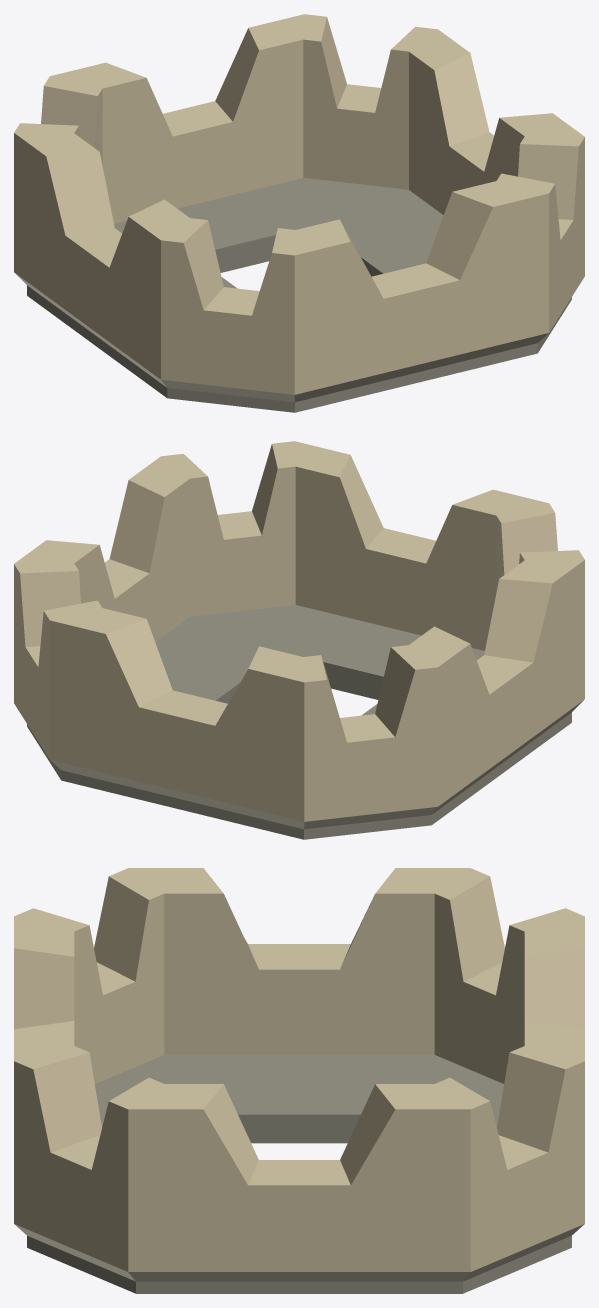
The model's file is crenellated_tower_crown.glb.
3 renders of one model, top to bottom at view 1: azimuth 30°, elevation 25°; view 2: azimuth 150°, elevation 25°; view 3: azimuth 270°, elevation 25°, orthographic. The views are drawn at different scales.
Visible parts, largest first — view 1: Crenellated tower crown; view 2: Crenellated tower crown; view 3: Crenellated tower crown.
Part boxes in pixels (x1=…): Crenellated tower crown: x1=14, y1=14, x2=584, y2=412; Crenellated tower crown: x1=14, y1=441, x2=584, y2=839; Crenellated tower crown: x1=14, y1=868, x2=584, y2=1293.
Size of the model in its own units: 2.18 by 0.8 by 2.18.
